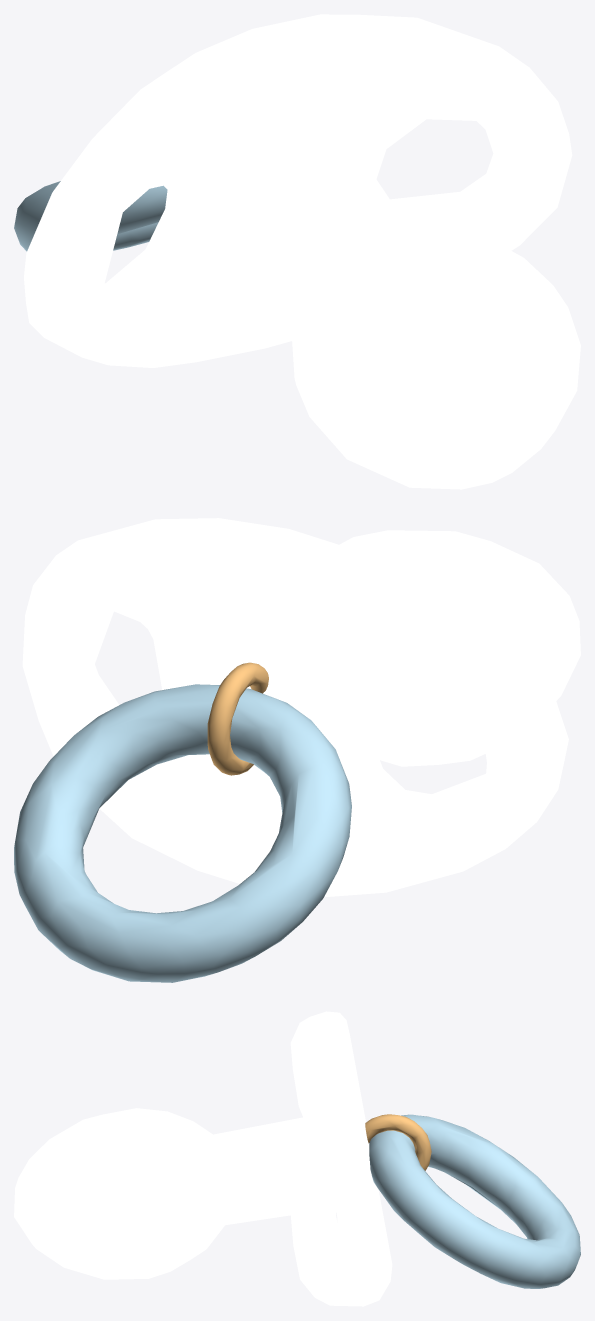
Rendered from pacifier.fbx.
3 renders of one model, top to bottom at view 1: azimuth 30°, elevation 25°; view 2: azimuth 150°, elevation 25°; view 3: azimuth 270°, elevation 25°, orthographic. The views are drawn at different scales.
Visible parts, largest first — view 1: ZBrush_0_Pacifyer_1D93968F, ZBrush_0_PM3D_Ring3D1_DAD61A85; view 2: ZBrush_0_Pacifyer_1D93968F, ZBrush_0_PM3D_Ring3D1_DAD61A85, ZBrush_0_PM3D_Ring3D2_DAD61A85; view 3: ZBrush_0_Pacifyer_1D93968F, ZBrush_0_PM3D_Ring3D1_DAD61A85, ZBrush_0_PM3D_Ring3D2_DAD61A85.
Boxes of the visible parts, left/top/right/bottom form: ZBrush_0_Pacifyer_1D93968F: left=24, top=14, right=580, bottom=489; ZBrush_0_PM3D_Ring3D1_DAD61A85: left=14, top=181, right=167, bottom=251; ZBrush_0_Pacifyer_1D93968F: left=22, top=518, right=580, bottom=896; ZBrush_0_PM3D_Ring3D1_DAD61A85: left=14, top=684, right=351, bottom=982; ZBrush_0_PM3D_Ring3D2_DAD61A85: left=207, top=662, right=268, bottom=775; ZBrush_0_Pacifyer_1D93968F: left=14, top=1011, right=392, bottom=1306; ZBrush_0_PM3D_Ring3D1_DAD61A85: left=369, top=1114, right=580, bottom=1288; ZBrush_0_PM3D_Ring3D2_DAD61A85: left=365, top=1114, right=431, bottom=1170.
Size of the model in its own units: 3.69 by 2.16 by 4.76.
